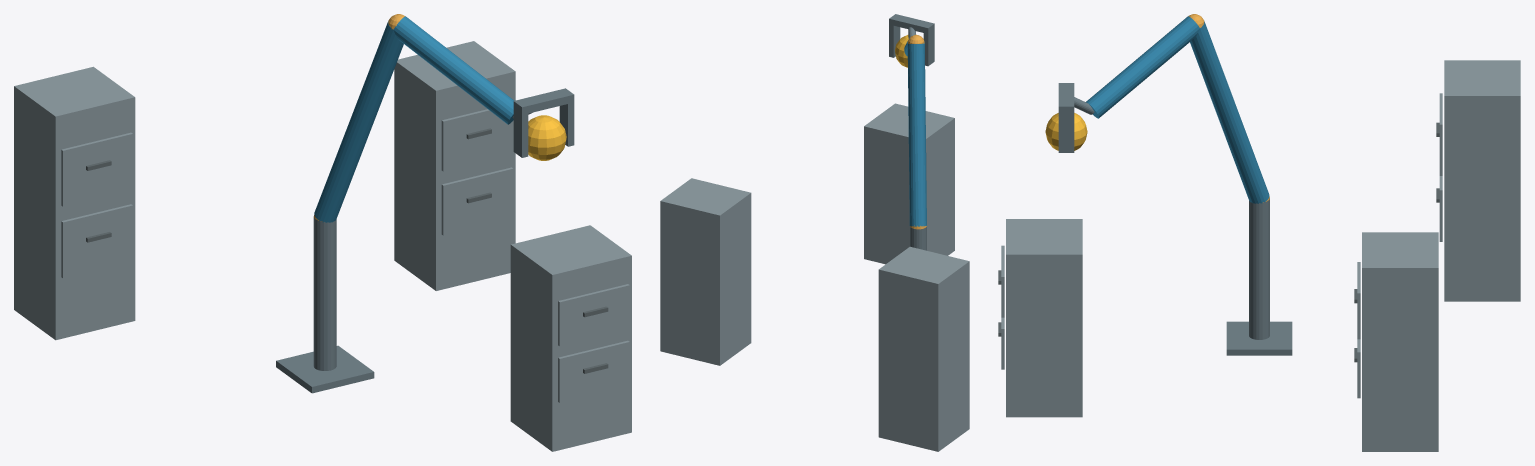
3 renders of one model, left to right at view 1: azimuth 30°, elevation 25°; view 2: azimuth 150°, elevation 25°; view 3: azimuth 270°, elevation 25°, orthographic. The views are drawn at different scales.
Visible parts, largest first — view 1: cabinet_3 body, cabinet_1 body, cabinet_2 body, moving link 1, cabinet_3 drawer front.001, cabinet_3 drawer front, cabinet_2 drawer front, fixed post, moving link 2, cabinet_2 drawer front.001, cabinet_1 drawer front.001, cabinet_1 drawer front (+4 smaller); view 2: cabinet_3 body, cabinet_2 body, cabinet_1 body, moving link 1, gripper bridge, fixed post, gripper finger -1; view 3: cabinet_3 body, cabinet_2 body, cabinet_1 body, moving link 1, moving link 2, fixed post, pedestal, ball ball_1, gripper finger 1, gripper bridge.
Boxes of the visible parts, x1,y1,x2,y2 form: cabinet_3 body: [14, 66, 135, 340]; cabinet_1 body: [510, 225, 631, 451]; cabinet_2 body: [394, 41, 515, 290]; moving link 1: [314, 21, 403, 222]; cabinet_3 drawer front.001: [61, 132, 132, 206]; cabinet_3 drawer front: [61, 204, 132, 278]; cabinet_2 drawer front: [441, 167, 513, 235]; fixed post: [313, 216, 336, 370]; moving link 2: [393, 16, 514, 124]; cabinet_2 drawer front.001: [441, 109, 513, 171]; cabinet_1 drawer front.001: [558, 284, 629, 346]; cabinet_1 drawer front: [558, 340, 629, 402]; cabinet_3 body: [878, 246, 969, 451]; cabinet_2 body: [660, 178, 751, 365]; cabinet_1 body: [864, 103, 954, 264]; moving link 1: [907, 43, 926, 226]; gripper bridge: [889, 14, 934, 33]; fixed post: [910, 226, 926, 250]; gripper finger -1: [923, 30, 934, 66]; cabinet_3 body: [1444, 60, 1520, 301]; cabinet_2 body: [1362, 232, 1438, 451]; cabinet_1 body: [1006, 219, 1082, 417]; moving link 1: [1190, 21, 1269, 203]; moving link 2: [1086, 16, 1199, 118]; fixed post: [1249, 199, 1269, 339]; pedestal: [1226, 321, 1292, 355]; ball ball_1: [1045, 113, 1087, 150]; gripper finger 1: [1058, 113, 1074, 152]; gripper bridge: [1058, 83, 1074, 113].
Bounding box in the file's own units: 1.67 × 1.44 × 1.98.
